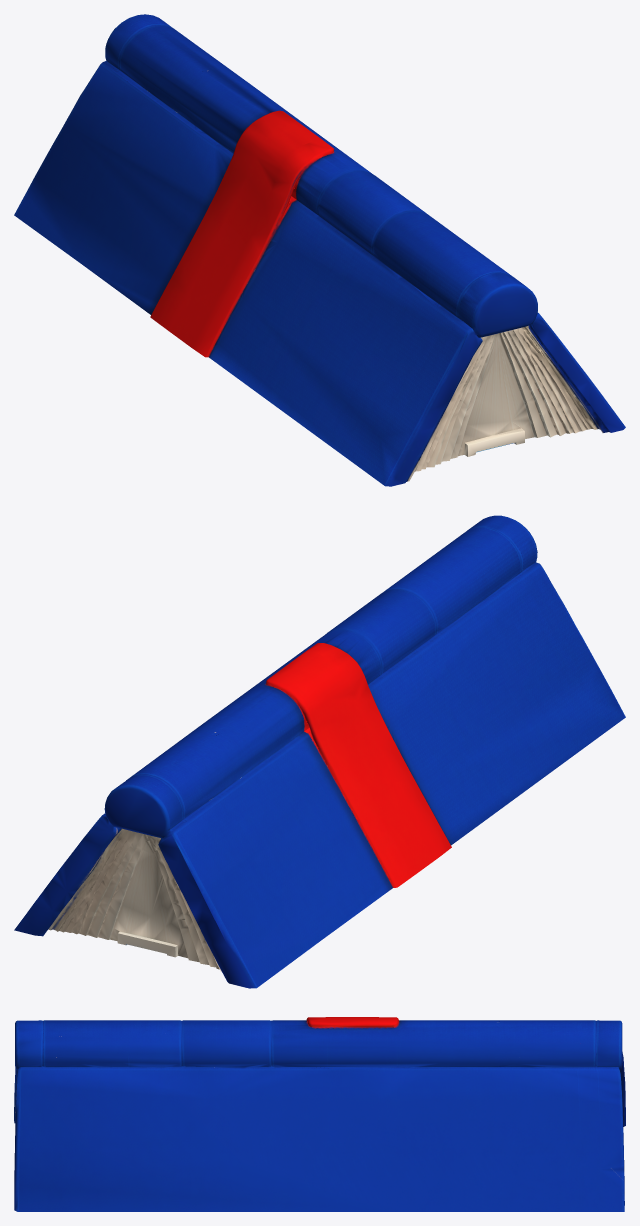
The model's file is 8-topper.fbx.
3 views of the same model, one above another, from view 1: azimuth 30°, elevation 25°; view 2: azimuth 150°, elevation 25°; view 3: azimuth 270°, elevation 25° (orthographic). The views are drawn at different scales.
Visible parts, largest first — view 1: topper; view 2: topper; view 3: topper.
Part boxes in pixels (box(x1,y1,x2,y2)): topper: box(14, 14, 625, 486); topper: box(14, 515, 625, 988); topper: box(14, 1017, 625, 1211).
Size of the model in its own units: 7033 by 4835 by 18665.
1 material, 1 textured.
